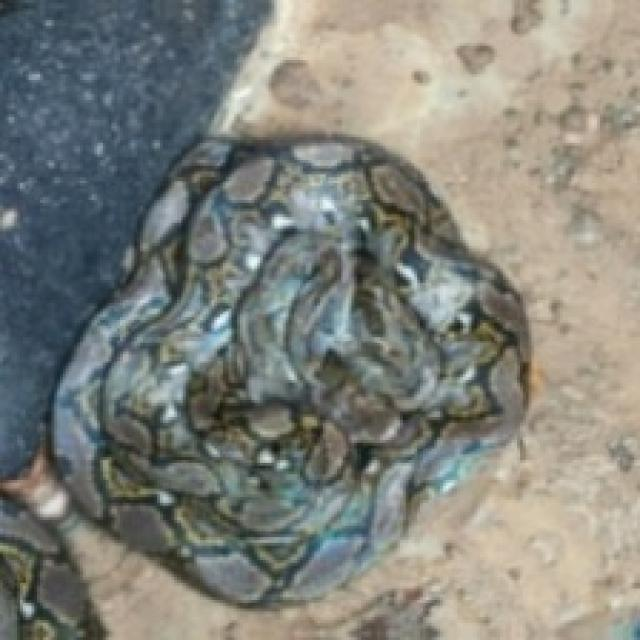reticulated python: (51, 137, 526, 603)
